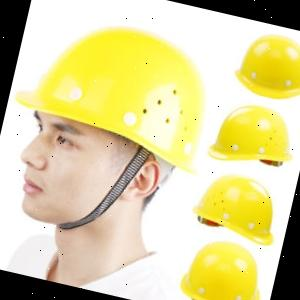helmet: (6, 6, 224, 176), (186, 165, 290, 248), (203, 95, 300, 180), (173, 232, 272, 300), (226, 24, 300, 107)
